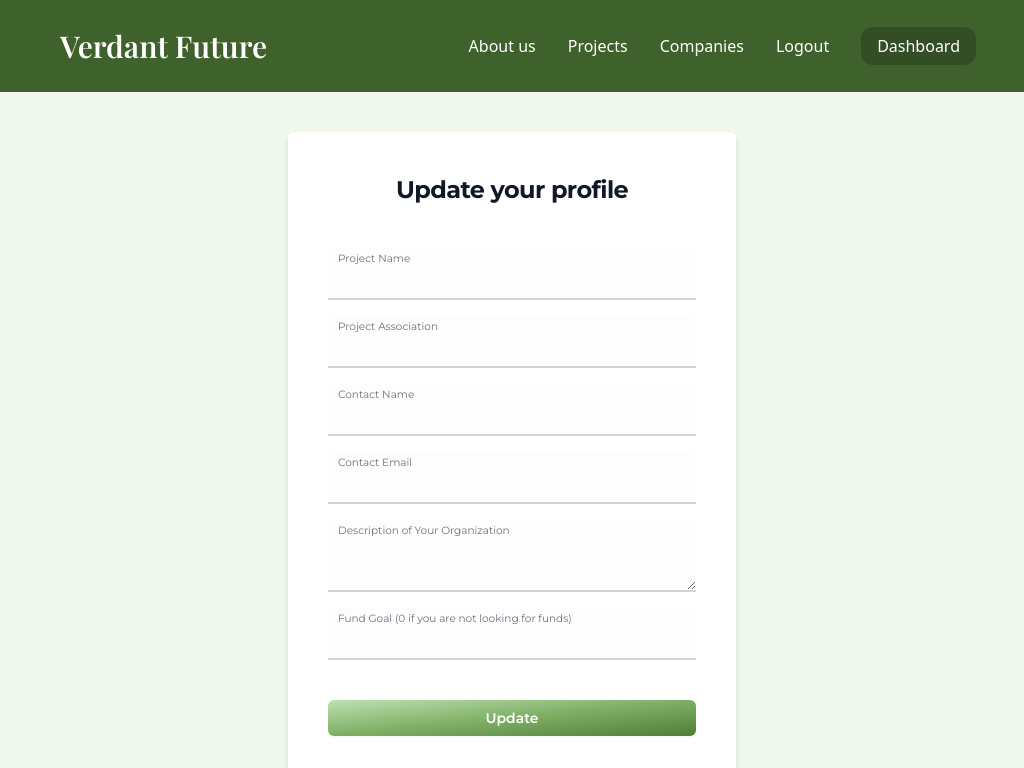
Test: UpdateProfileForm › handles update profile failure
Type "New Project Name" into the field labelled "Project Name" at [512, 274], box [328,248,696,300]
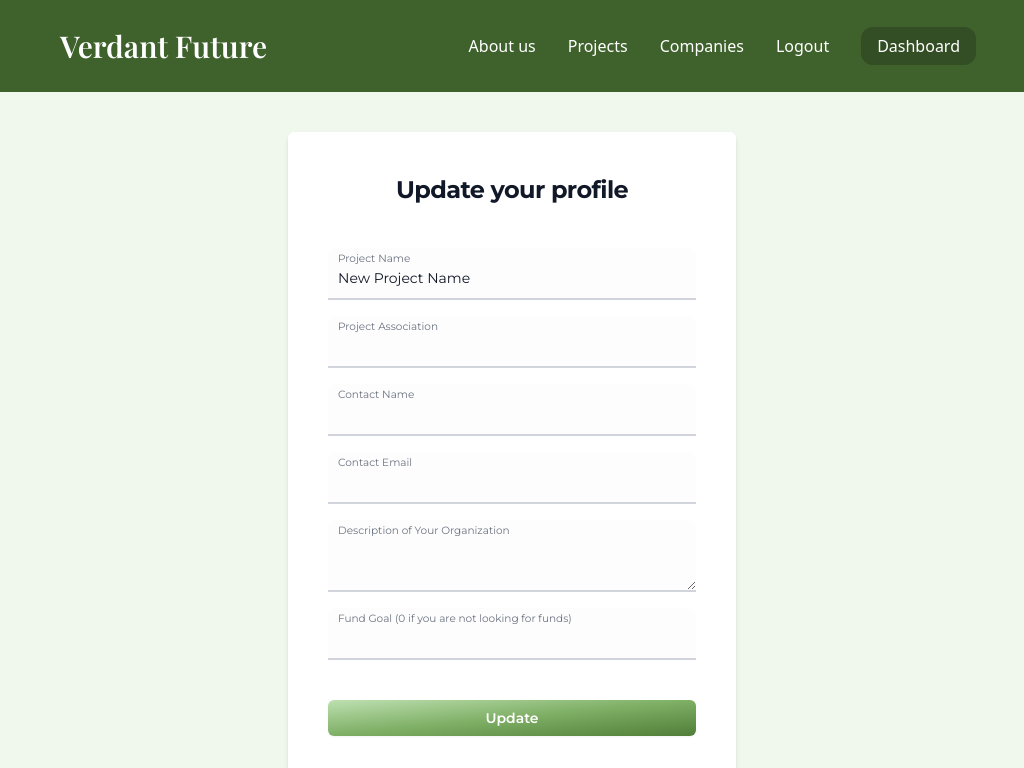
Submit the form from the button "Update", box [328,700,696,736]
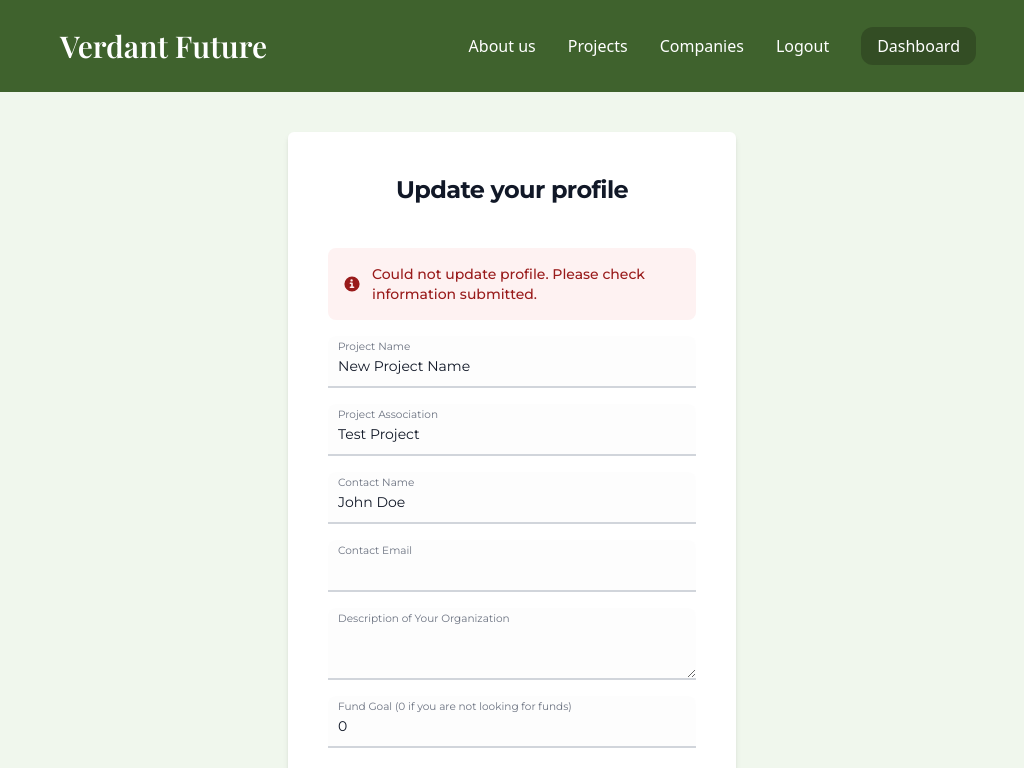
Result: the text "Could not update profile. Please check information submitted." is shown at [372,265,645,303]
